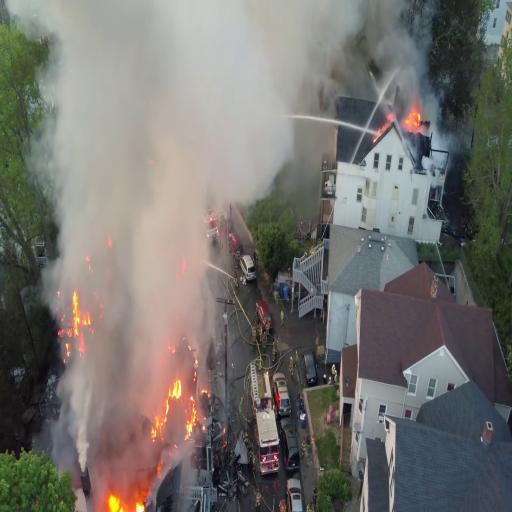fire: (158, 372, 202, 434), (55, 279, 97, 336)
smoke: (94, 429, 153, 485)
